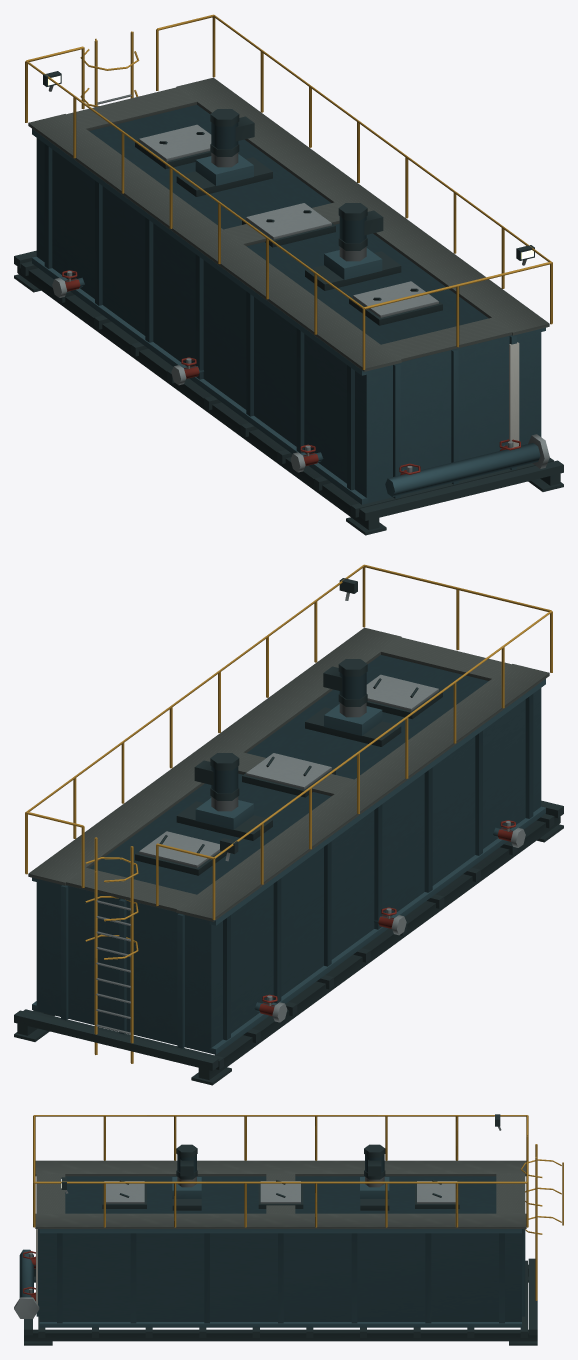
The model's file is mud_tank_single_lodl.glb.
3 views of the same model, one above another, from view 1: azimuth 30°, elevation 25°; view 2: azimuth 150°, elevation 25°; view 3: azimuth 270°, elevation 25° (orthographic). The views are drawn at different scales.
Visible parts, largest first — view 1: tank_shell_blue, walkway_deck, external_stiffeners_blue, skid_dark, handrails_yellow, access_hatches_steel, suction_header_blue, agitator_1_dark, agitator_2_dark, access_hatches_dark, agitator_2_blue, agitator_1_blue (+4 smaller); view 2: tank_shell_blue, walkway_deck, external_stiffeners_blue, skid_dark, handrails_yellow, access_hatches_steel, agitator_2_dark, agitator_1_dark, access_ladder_yellow, access_hatches_dark, agitator_1_blue, agitator_2_blue (+3 smaller); view 3: tank_shell_blue, walkway_deck, external_stiffeners_blue, skid_dark, handrails_yellow, access_hatches_steel, access_hatches_dark, agitator_1_dark, agitator_2_dark, access_ladder_yellow, agitator_1_blue, agitator_2_blue (+2 smaller).
Boxes of the visible parts, x1=… form: tank_shell_blue: x1=36, y1=105, x2=541, y2=503; walkway_deck: x1=28, y1=77, x2=549, y2=371; external_stiffeners_blue: x1=32, y1=129, x2=545, y2=504; skid_dark: x1=14, y1=250, x2=563, y2=535; handrails_yellow: x1=25, y1=14, x2=552, y2=369; access_hatches_steel: x1=139, y1=124, x2=438, y2=317; suction_header_blue: x1=385, y1=443, x2=540, y2=497; agitator_1_dark: x1=176, y1=109, x2=272, y2=196; agitator_2_dark: x1=305, y1=203, x2=401, y2=290; access_hatches_dark: x1=135, y1=132, x2=442, y2=325; agitator_2_blue: x1=324, y1=216, x2=382, y2=279; agitator_1_blue: x1=195, y1=122, x2=253, y2=185; tank_shell_blue: x1=36, y1=655, x2=541, y2=1053; walkway_deck: x1=28, y1=627, x2=549, y2=921; external_stiffeners_blue: x1=32, y1=679, x2=545, y2=1054; skid_dark: x1=14, y1=800, x2=563, y2=1085; handrails_yellow: x1=25, y1=564, x2=552, y2=919; access_hatches_steel: x1=139, y1=674, x2=438, y2=867; agitator_2_dark: x1=305, y1=659, x2=401, y2=746; agitator_1_dark: x1=176, y1=753, x2=272, y2=840; access_ladder_yellow: x1=85, y1=837, x2=138, y2=1063; access_hatches_dark: x1=135, y1=678, x2=442, y2=875; agitator_1_blue: x1=195, y1=766, x2=253, y2=829; agitator_2_blue: x1=324, y1=672, x2=382, y2=735; tank_shell_blue: x1=39, y1=1176, x2=521, y2=1321; walkway_deck: x1=35, y1=1160, x2=526, y2=1228; external_stiffeners_blue: x1=36, y1=1229, x2=525, y2=1327; skid_dark: x1=24, y1=1258, x2=537, y2=1345; handrails_yellow: x1=33, y1=1115, x2=528, y2=1227; access_hatches_steel: x1=104, y1=1181, x2=457, y2=1203; access_hatches_dark: x1=102, y1=1180, x2=459, y2=1208; agitator_1_dark: x1=360, y1=1144, x2=389, y2=1210; agitator_2_dark: x1=172, y1=1144, x2=201, y2=1210; access_ladder_yellow: x1=520, y1=1144, x2=563, y2=1300; agitator_1_blue: x1=360, y1=1154, x2=389, y2=1198; agitator_2_blue: x1=172, y1=1154, x2=201, y2=1198.
Bounding box in the file's own units: 4 × 4 × 12.31.
Materials: 9 (9 with a texture image).
